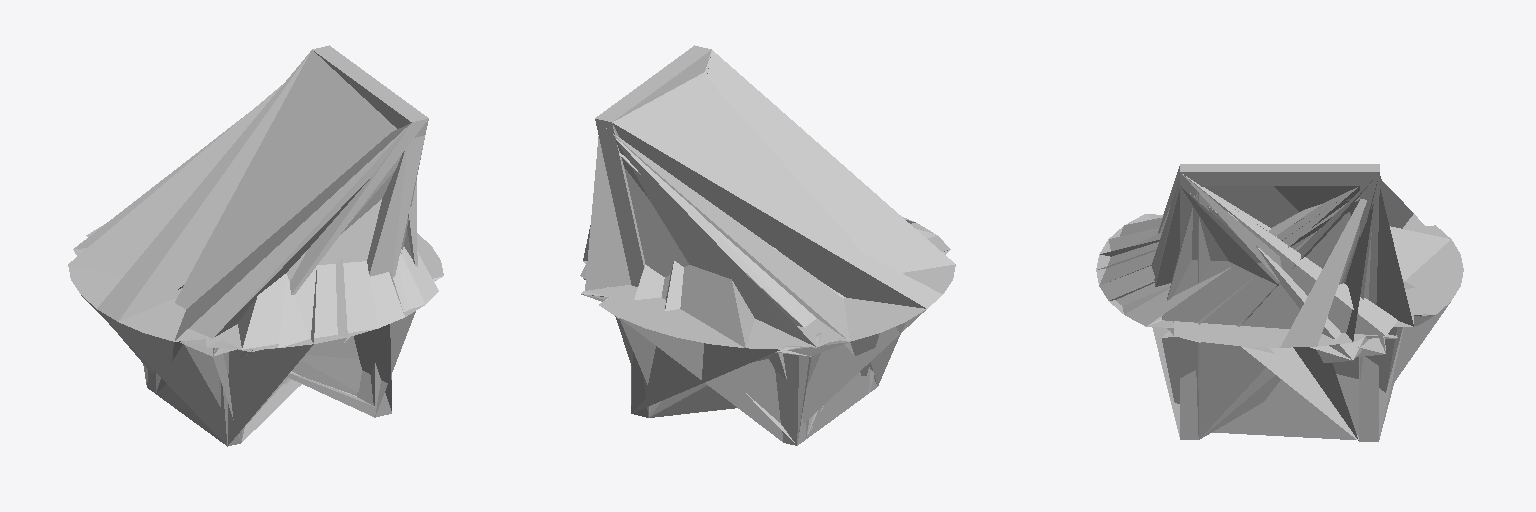
3 views of the same model, side by side, from view 1: azimuth 30°, elevation 25°; view 2: azimuth 150°, elevation 25°; view 3: azimuth 270°, elevation 25° (orthographic).
Visible parts, largest first — view 1: Room, Vase, Table, Chair; view 2: Room, Vase, Table, Chair; view 3: Room, Table, Chair, Vase.
Part boxes in pixels (x1,y1,x2,y2): Room: (69, 50, 442, 445); Vase: (68, 50, 443, 445); Table: (75, 125, 441, 446); Chair: (147, 45, 428, 443); Room: (580, 50, 954, 444); Vase: (583, 72, 955, 438); Table: (584, 123, 952, 442); Chair: (595, 45, 877, 445); Room: (1098, 174, 1462, 439); Table: (1099, 173, 1462, 440); Chair: (1180, 164, 1379, 441); Vase: (1096, 166, 1463, 435).
Size of the model in its own units: 0.9219 by 0.7966 by 0.9219.